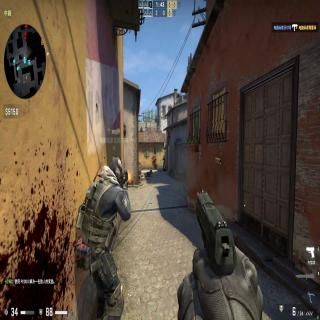CT-Body: (74, 157, 132, 318)
CT-Head: (110, 156, 123, 182)
T-Body: (162, 156, 166, 171)
T-Head: (163, 156, 165, 158)
